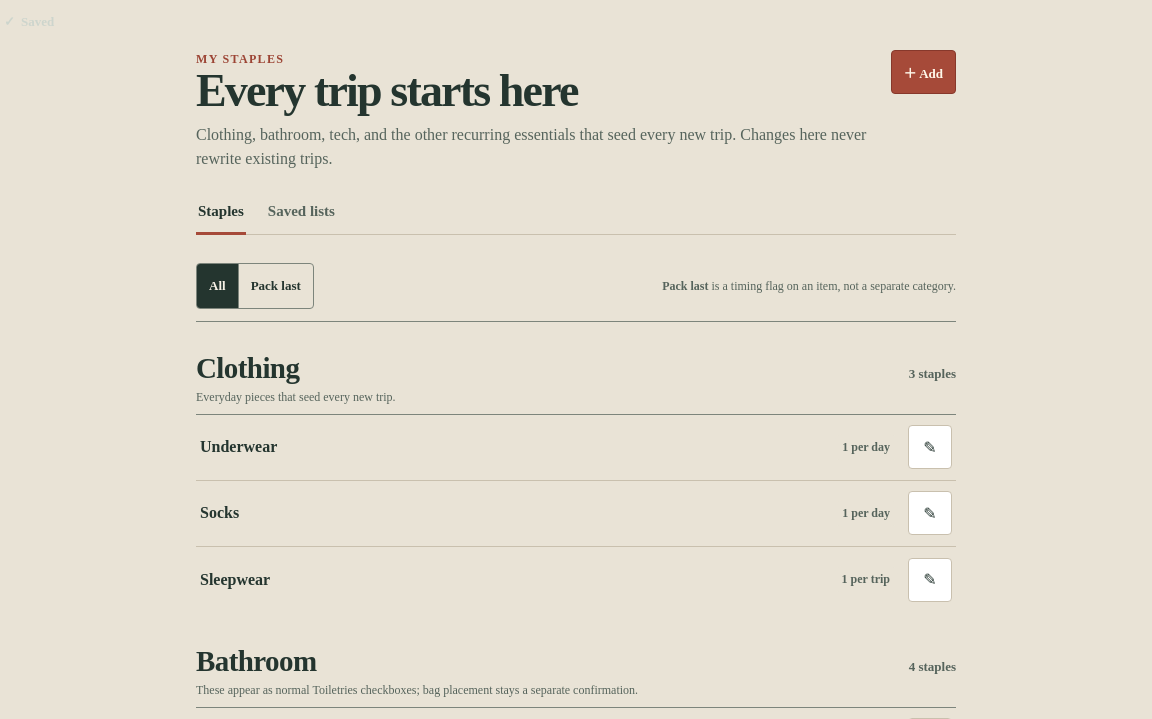
it: adding a staple › starts with Pack last off, saves after the server confirms, and applies to future trips only
The width and height of the screenshot is (1152, 719).
Expected: the element named "Filter staples" is shown, top-left (196, 263), bottom-right (314, 309)
Step 1. Click the button "＋ Add" → (923, 72), box top-left (891, 50), bottom-right (956, 94)
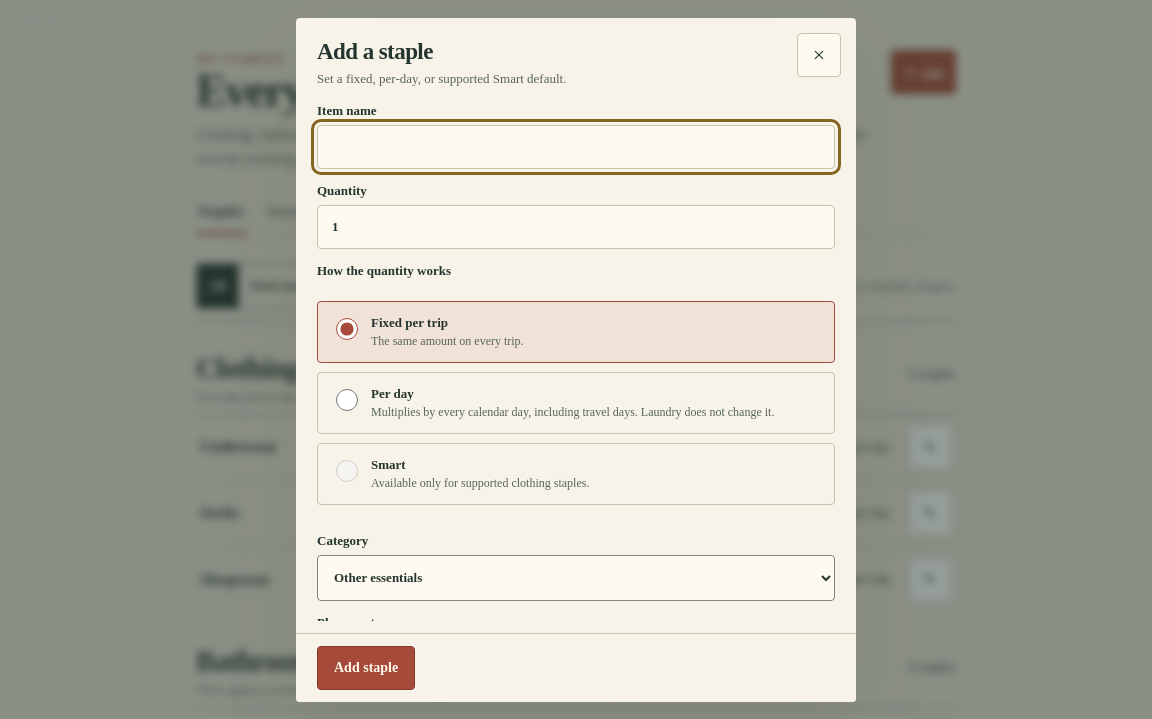
Step 2. Type "  Phone charger " into the field labelled "Item name" → (576, 146), box top-left (317, 124), bottom-right (835, 168)
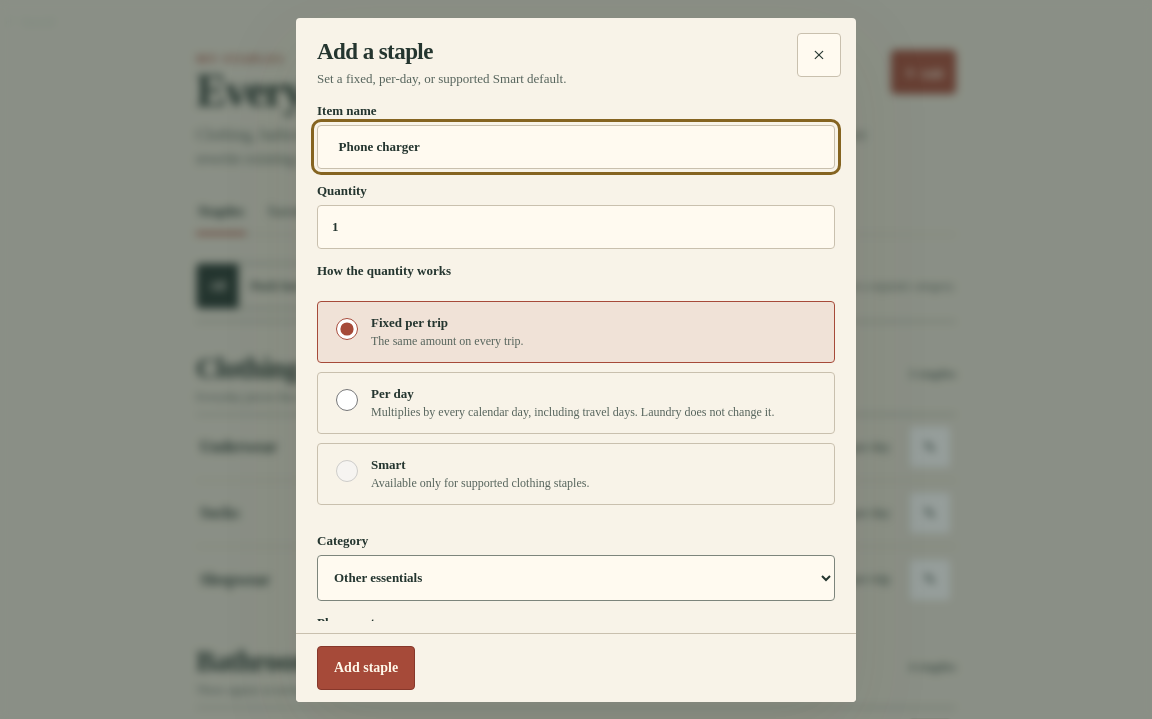
Step 3. Replace the text in the number field labelled "Quantity" with "2" → (576, 226), box top-left (317, 204), bottom-right (835, 248)
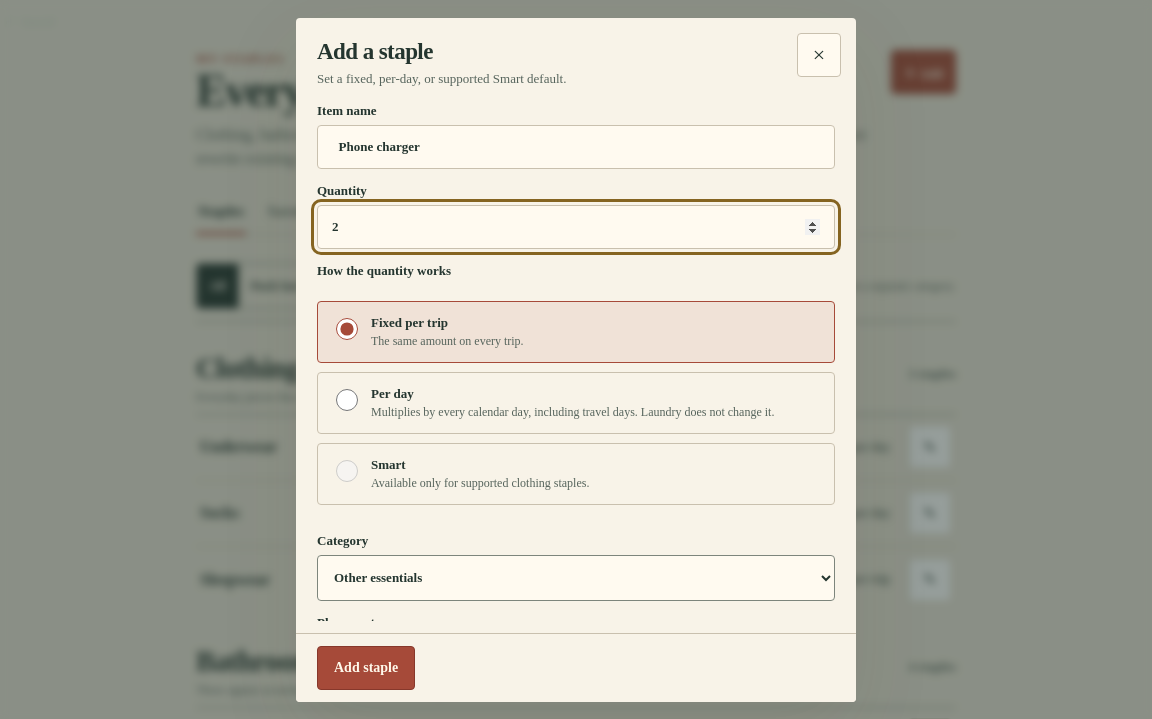
Step 4. Click the radio button labelled "Per day" → (347, 400), box top-left (336, 388), bottom-right (358, 410)
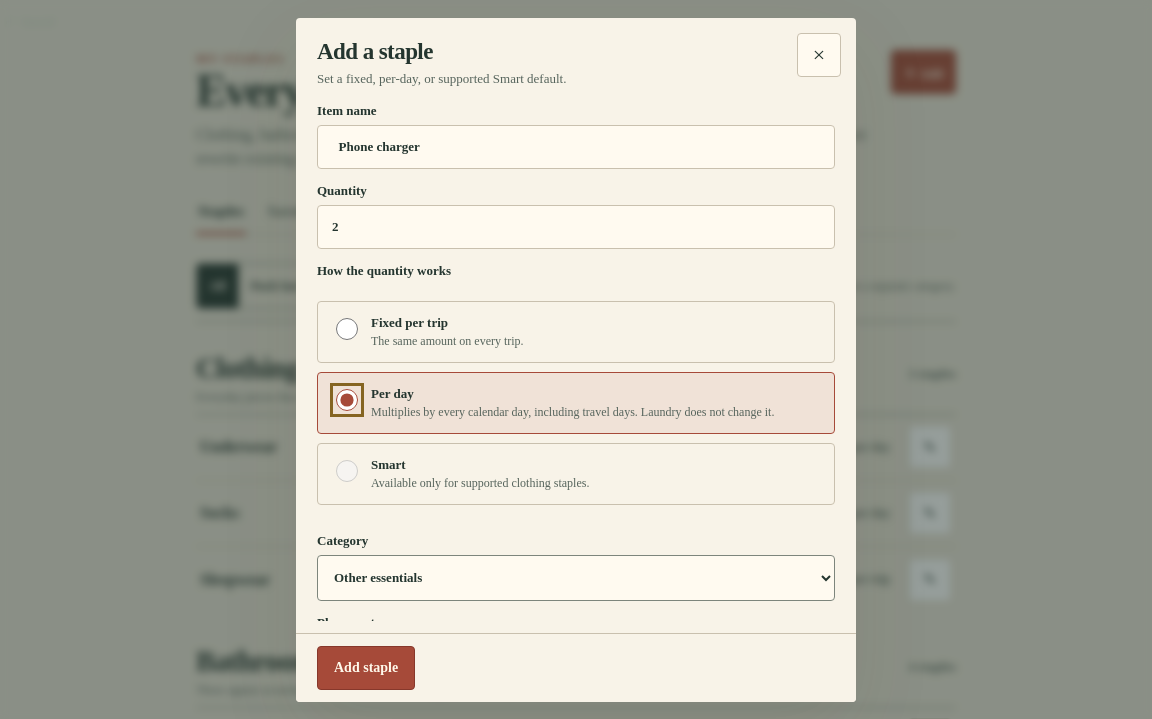
Step 5. Select "Tech" in the dropdown labelled "Category" → (576, 578), box top-left (317, 554), bottom-right (835, 600)
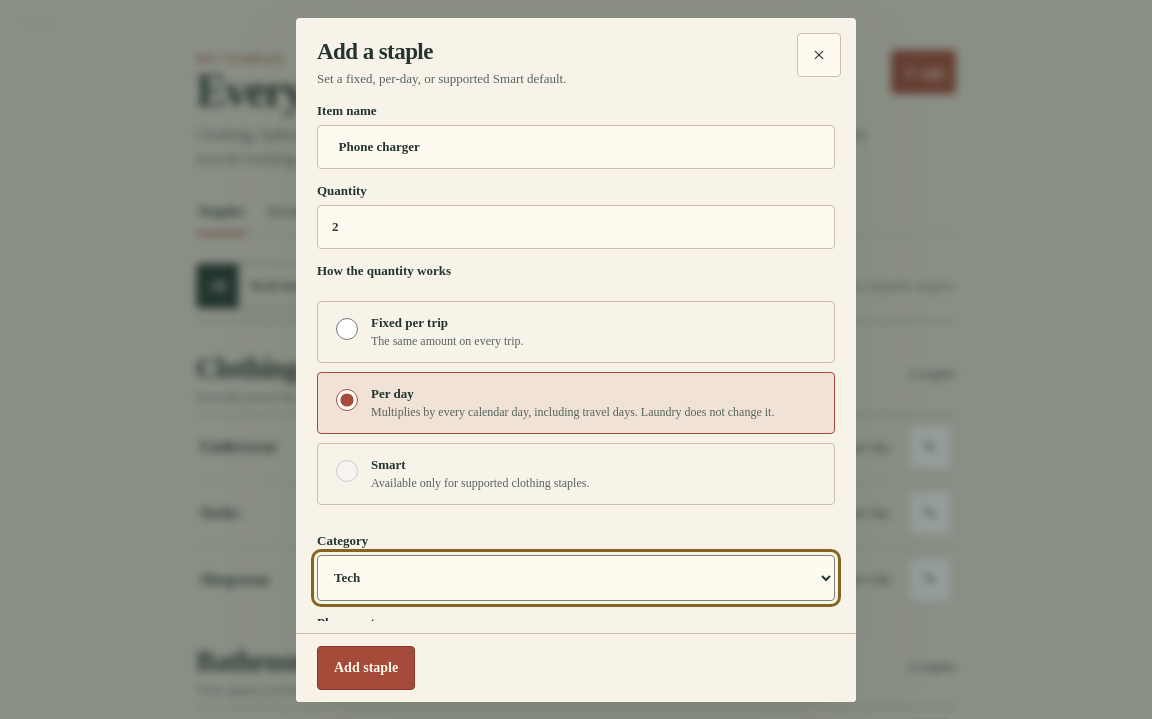
Step 6. Click the button "Add staple" → (366, 668), box top-left (317, 646), bottom-right (415, 690)
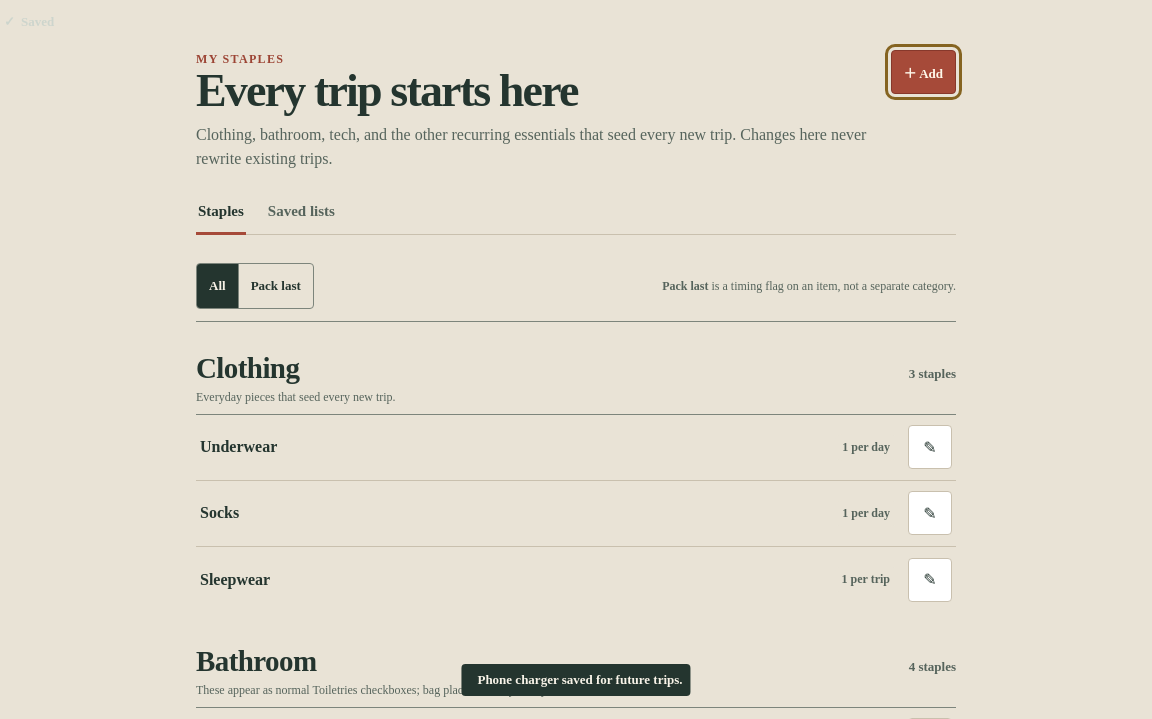
Result: the dialog is gone
Result: the text "Phone charger saved for future trips." is shown at top-left (478, 672), bottom-right (683, 688)
